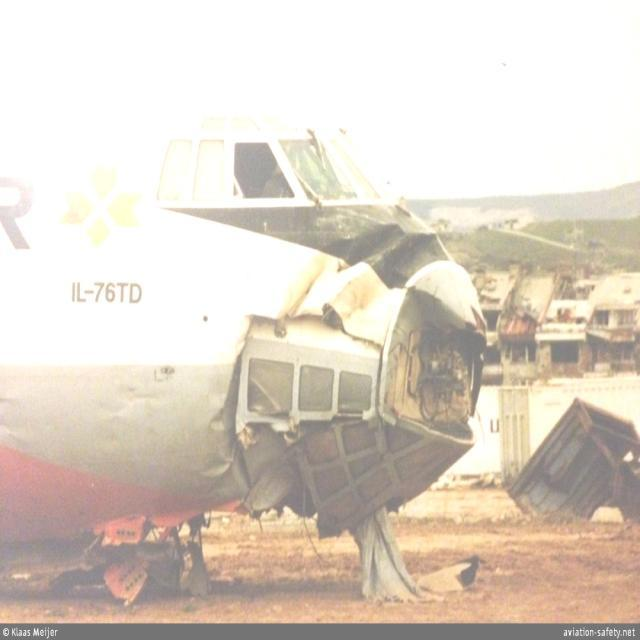dent: (196, 409, 232, 483)
